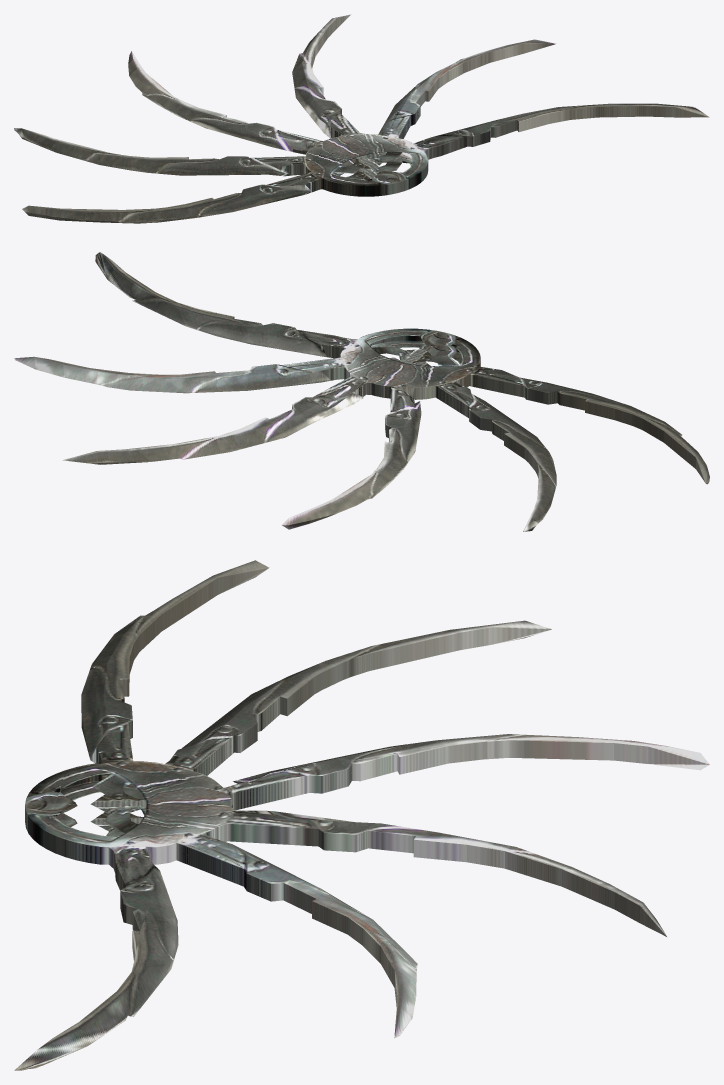
File: PredatorShuriken.fbx
The picture shows the model from 3 angles, top to bottom: view 1: azimuth 30°, elevation 25°; view 2: azimuth 150°, elevation 25°; view 3: azimuth 270°, elevation 25°; orthographic projection. The views are drawn at different scales.
Parts seen in each view (by area): view 1: BezierCurve; view 2: BezierCurve; view 3: BezierCurve.
Boxes of the visible parts, x1=… form: BezierCurve: x1=14, y1=14, x2=709, y2=223; BezierCurve: x1=14, y1=252, x2=709, y2=531; BezierCurve: x1=14, y1=560, x2=709, y2=1070.
Bounding box in the file's own units: 10.76 × 0.1759 × 6.33.
